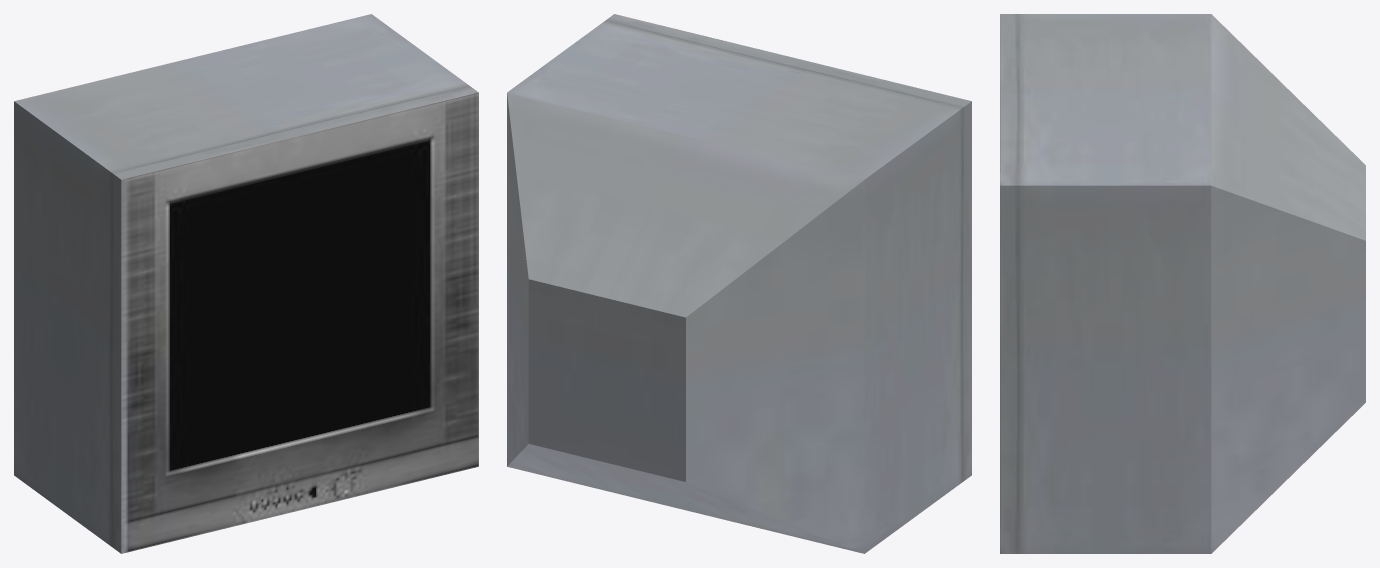
The picture shows the model from 3 angles, left to right: view 1: azimuth 30°, elevation 25°; view 2: azimuth 150°, elevation 25°; view 3: azimuth 270°, elevation 25°; orthographic projection.
Visible parts, largest first — view 1: Tv; view 2: Tv; view 3: Tv.
Part boxes in pixels (<box>): Tv: <box>14,14,478,553</box>; Tv: <box>507,14,971,553</box>; Tv: <box>1000,14,1365,553</box>.
Size of the model in its own units: 60 by 60 by 54.
